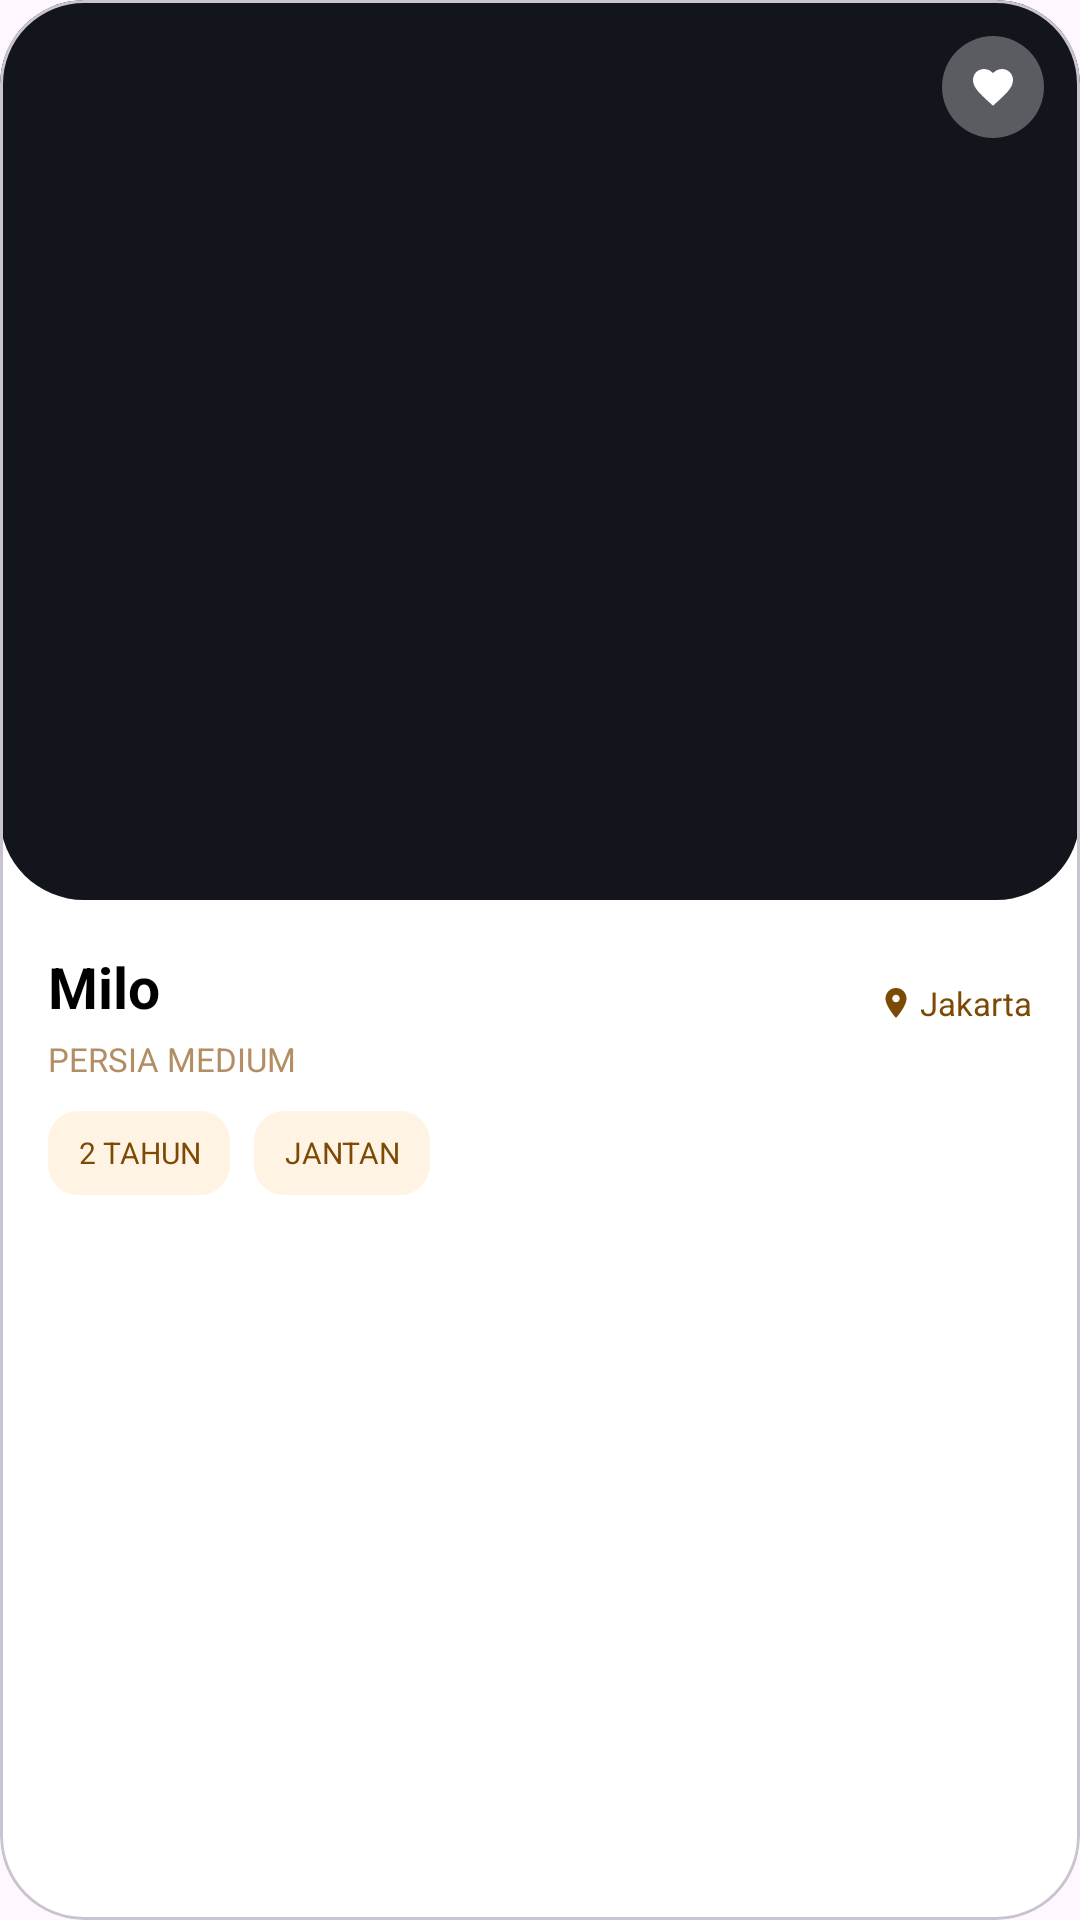

Named icons in this screenshot (1080x1920) and their bounding boxes, (x1, y1, x2, y2):
Favorit: (942, 36, 1044, 138)
Lokasi: (885, 988, 907, 1018)
